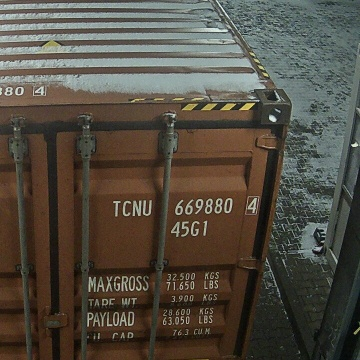serial_id: (113, 198, 257, 215)
